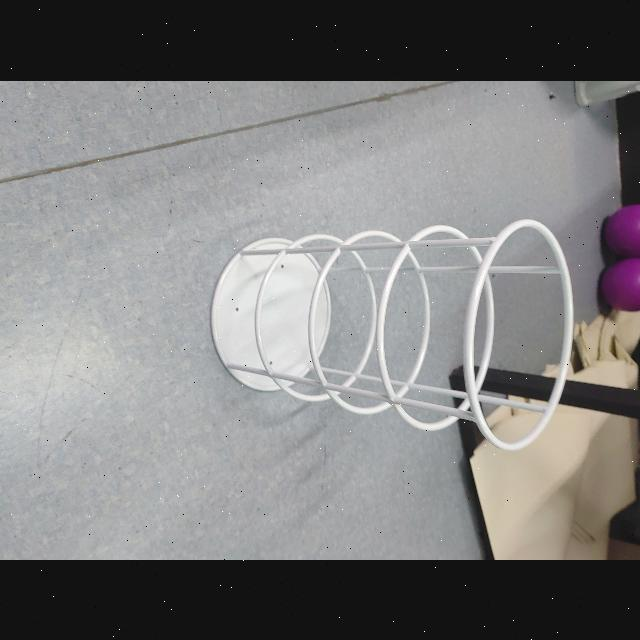S: (207, 214, 578, 452)
